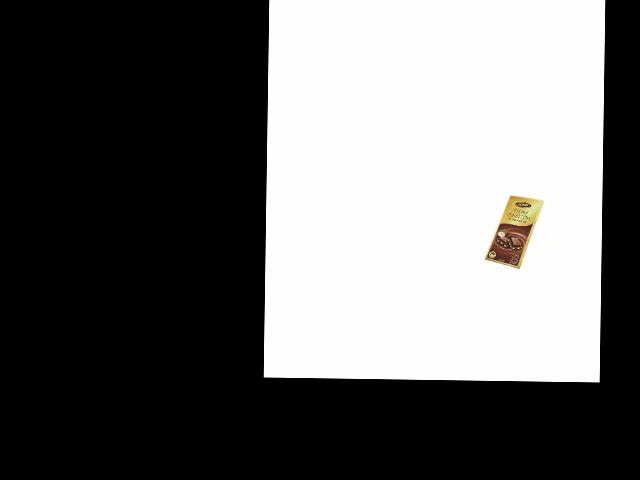chocolate: (484, 194, 546, 276)
